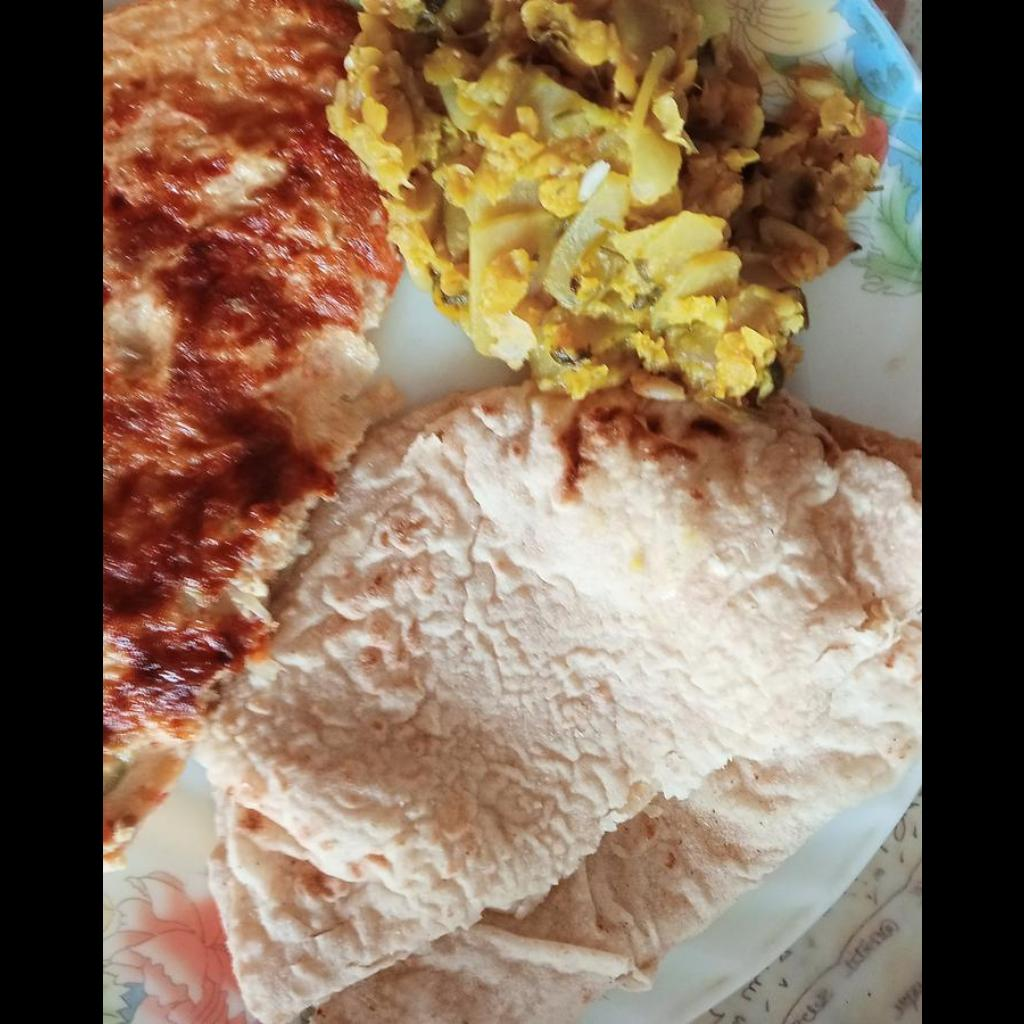daal: (327, 0, 885, 402)
egg-poached: (102, 1, 394, 867)
ruti: (208, 403, 920, 1022)
